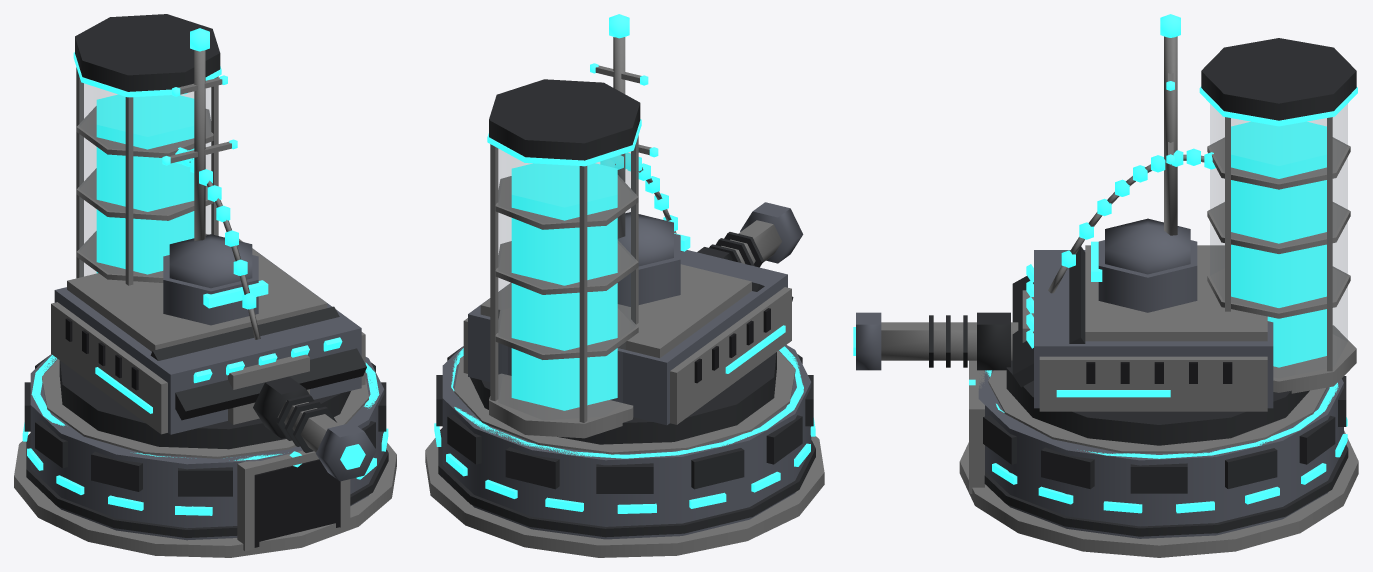
File: Machinegoon_T1.glb
3 renders of one model, left to right at view 1: azimuth 30°, elevation 25°; view 2: azimuth 150°, elevation 25°; view 3: azimuth 270°, elevation 25°, orthographic. The views are drawn at different scales.
Parts seen in each view (by area): view 1: Machinegoon_T1_Turret, Machinegoon_T1_Base; view 2: Machinegoon_T1_Turret, Machinegoon_T1_Base; view 3: Machinegoon_T1_Turret, Machinegoon_T1_Base.
Boxes of the visible parts, x1,y1,x2,y2 form: Machinegoon_T1_Turret: [51, 14, 376, 481]; Machinegoon_T1_Base: [14, 354, 396, 557]; Machinegoon_T1_Turret: [463, 14, 803, 444]; Machinegoon_T1_Base: [425, 345, 824, 557]; Machinegoon_T1_Turret: [853, 14, 1357, 445]; Machinegoon_T1_Base: [959, 360, 1358, 557].
Bounding box in the file's own units: 3.5 × 4.45 × 4.44.
